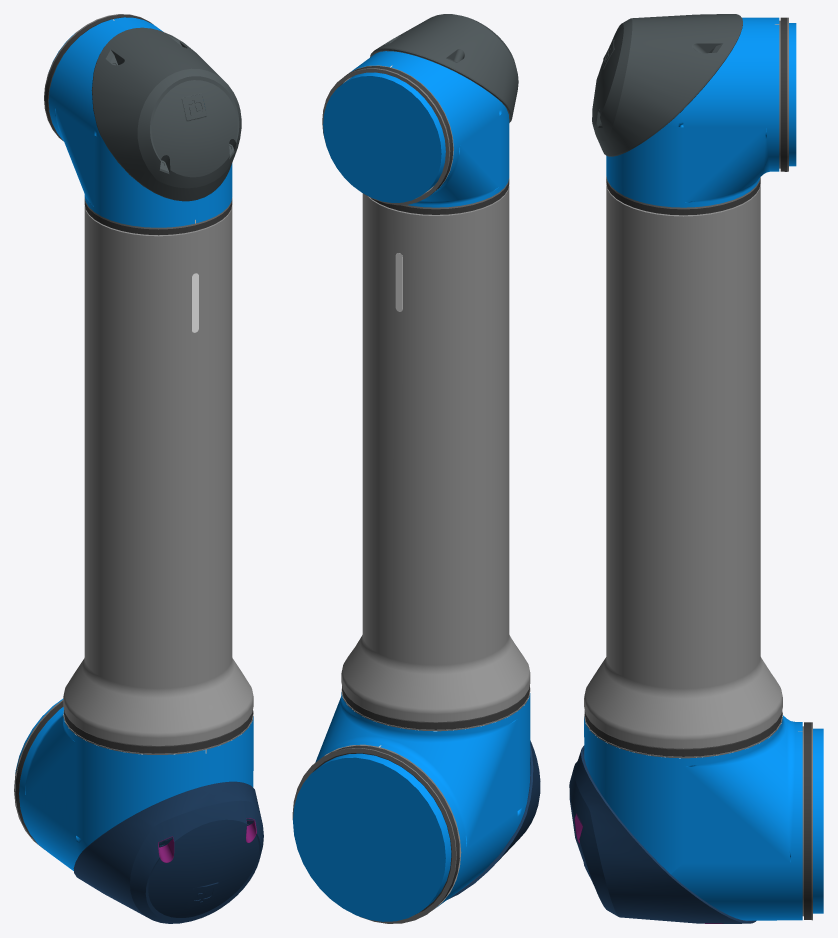
The picture shows the model from 3 angles, left to right: view 1: azimuth 30°, elevation 25°; view 2: azimuth 150°, elevation 25°; view 3: azimuth 270°, elevation 25°; orthographic projection. The views are drawn at different scales.
Parts seen in each view (by area): view 1: RB10-1300E_LINK2:1; view 2: RB10-1300E_LINK2:1; view 3: RB10-1300E_LINK2:1.
Boxes of the visible parts, x1,y1,x2,y2 form: RB10-1300E_LINK2:1: (14, 14, 263, 923); RB10-1300E_LINK2:1: (292, 14, 540, 923); RB10-1300E_LINK2:1: (569, 14, 823, 923).
Bounding box in the file's own units: 0.1531 × 0.1942 × 0.7534.
